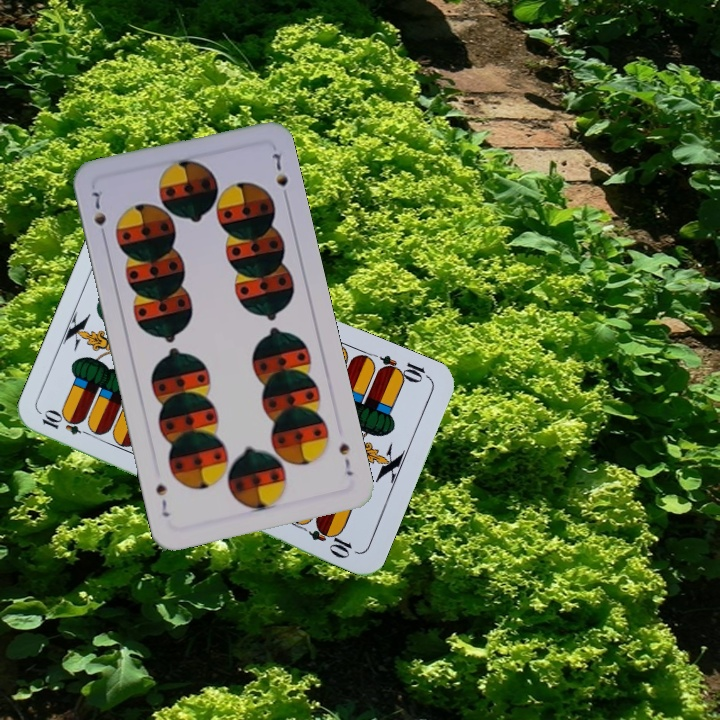E10: (374, 351, 433, 386), (38, 408, 96, 440)
S7: (88, 187, 109, 243), (334, 439, 356, 479)
